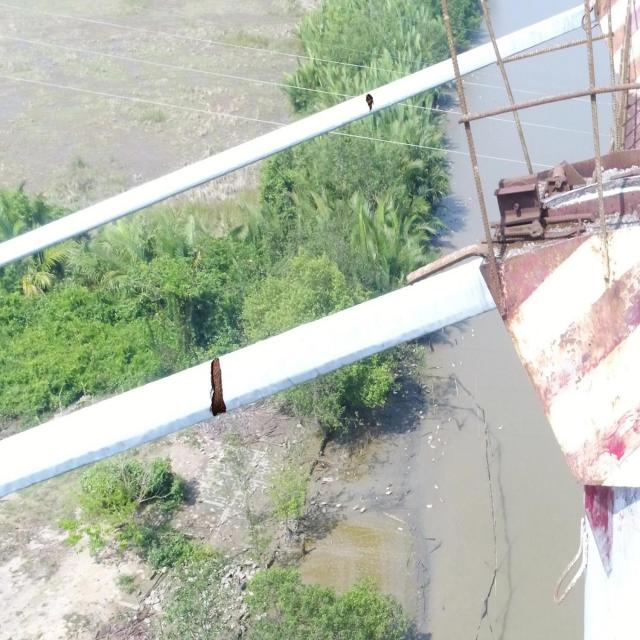corrosion: (208, 357, 228, 416), (365, 92, 375, 114)
